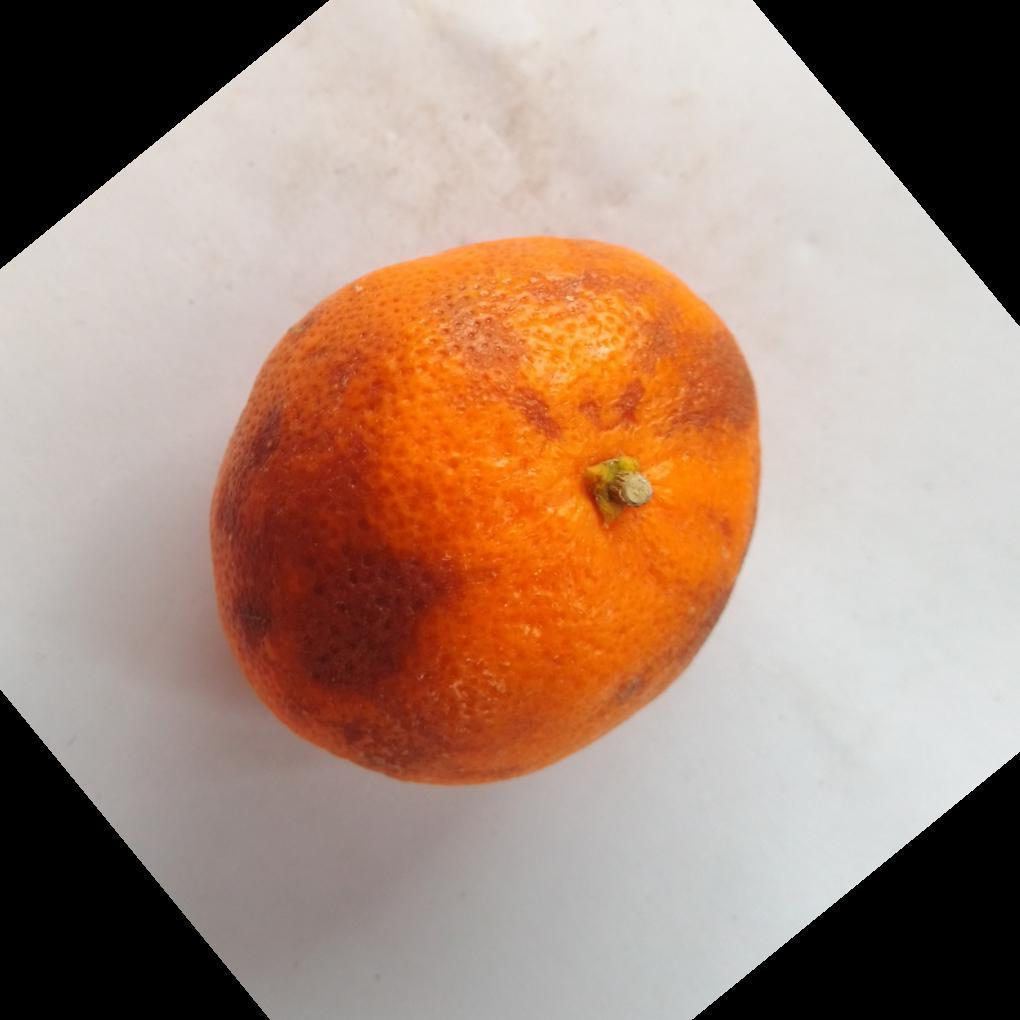FreshOrange: (207, 236, 764, 792)
